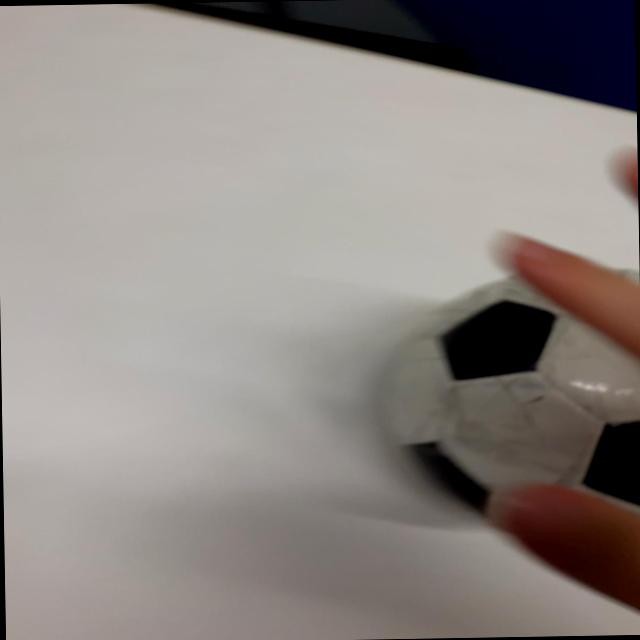Soccer Ball: (402, 328, 631, 494)
